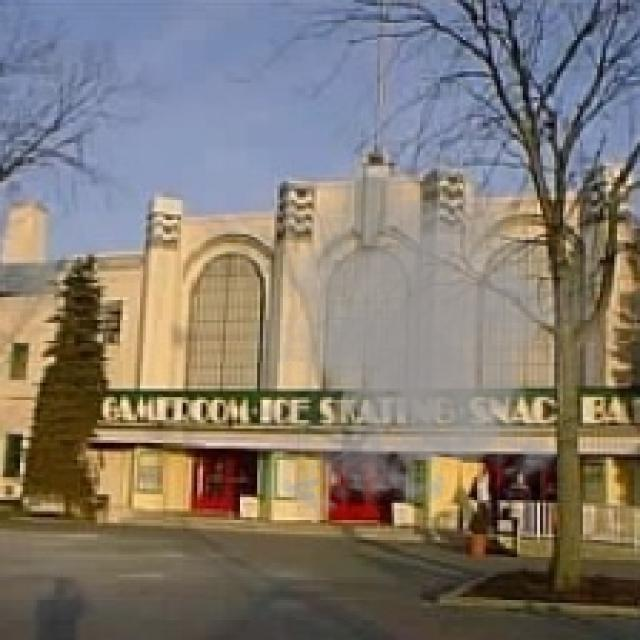Smoke: (226, 154, 614, 523)
